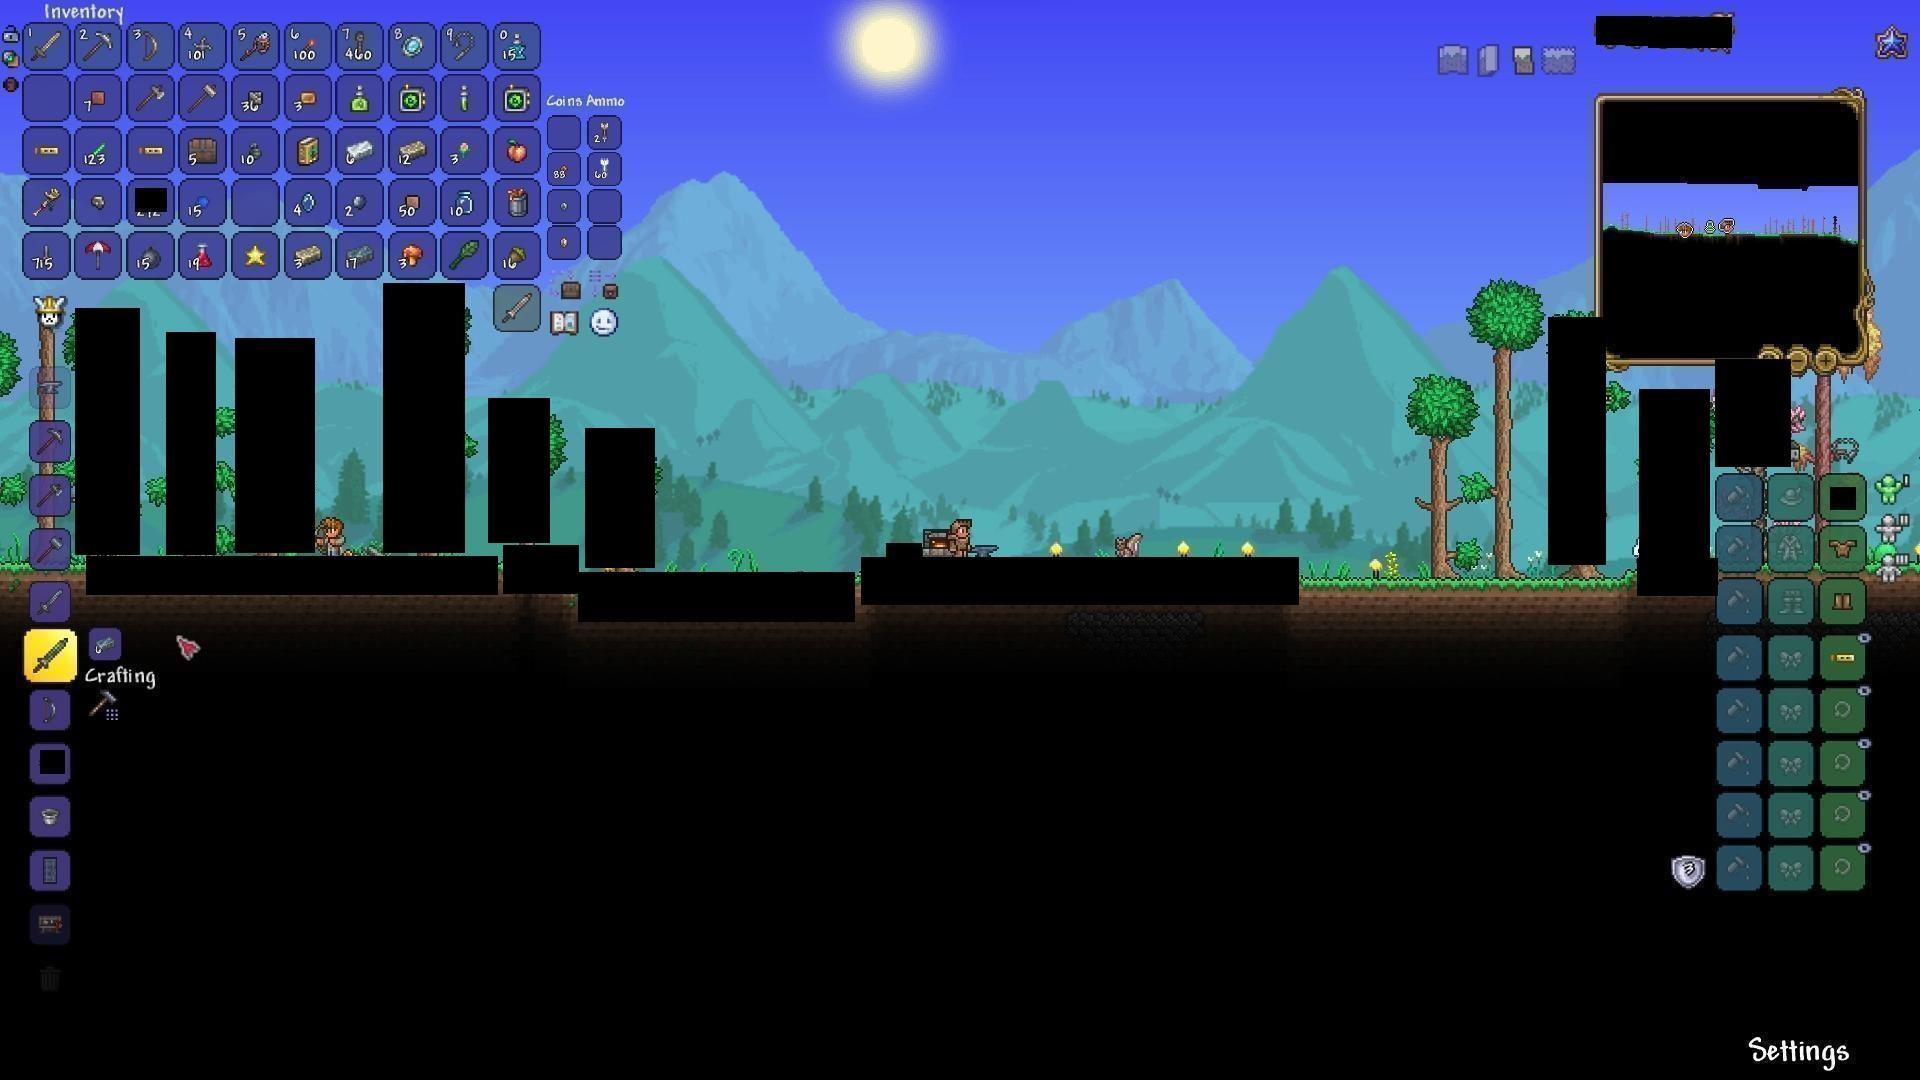breastplate: (1829, 538, 1857, 559)
dirt: (1304, 568, 1636, 604)
legs: (1832, 589, 1858, 615)
tree: (1466, 268, 1527, 564), (1403, 367, 1466, 566)
